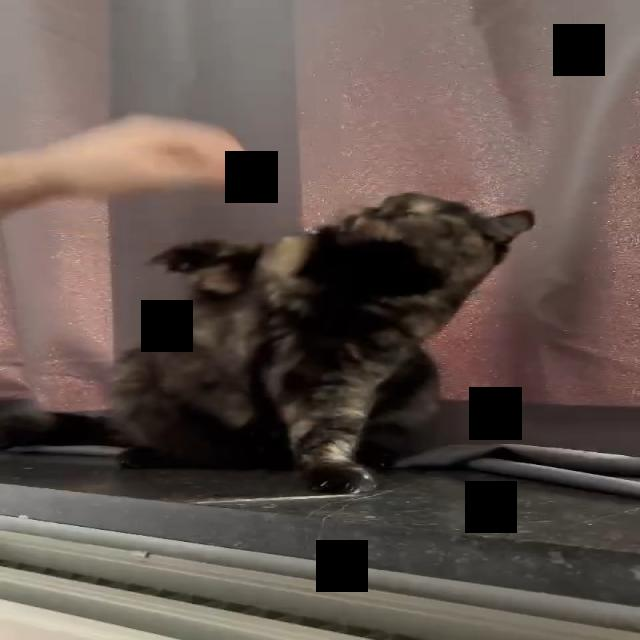authorized: (104, 190, 536, 494)
